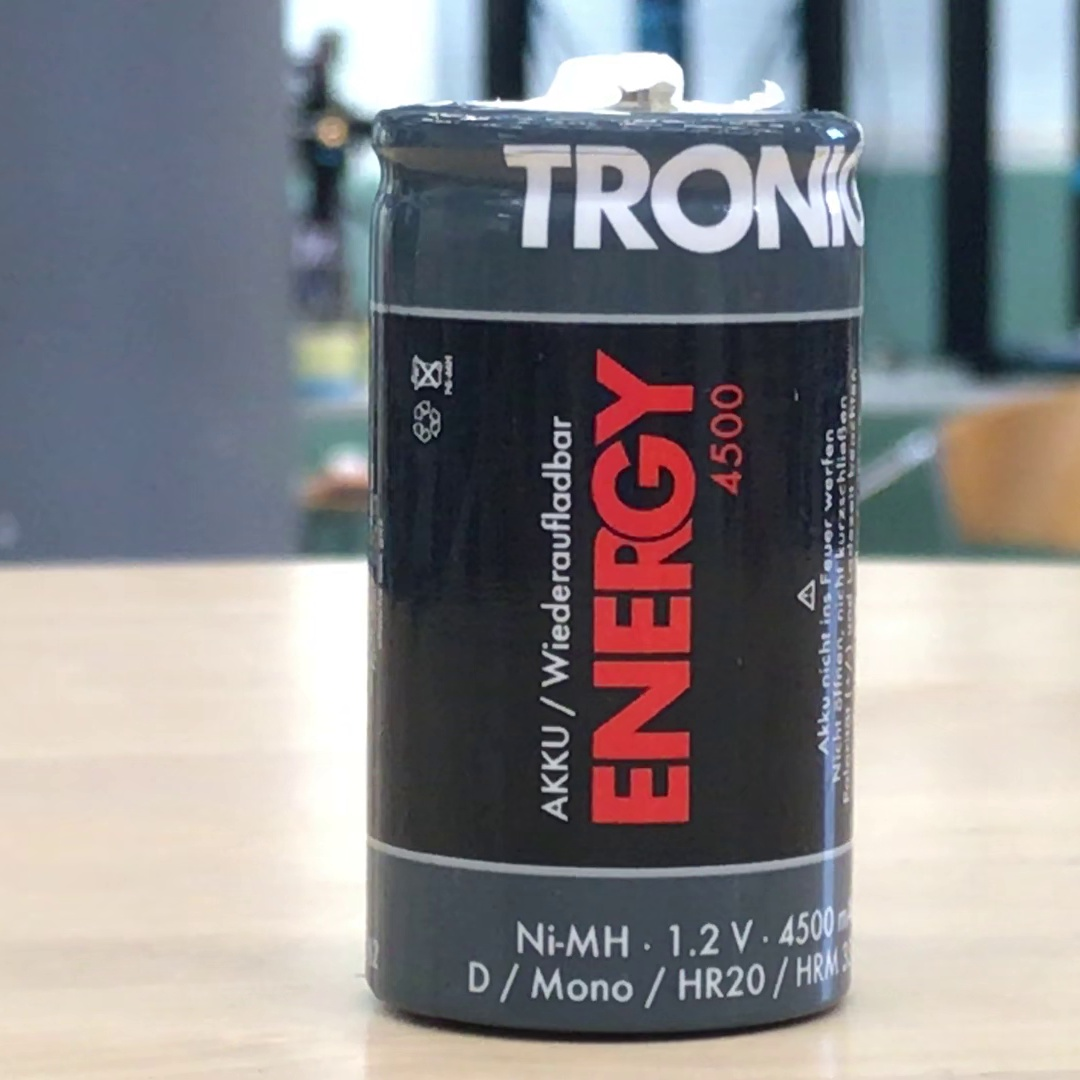keyword: (508, 916, 637, 964)
